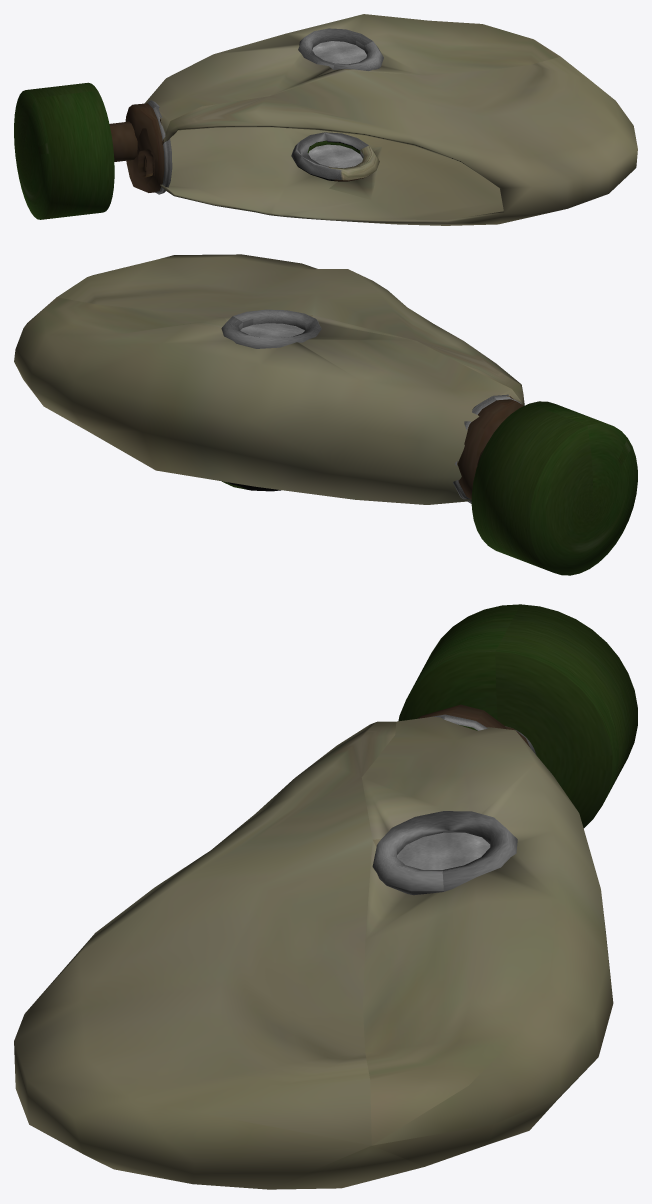
File: scp1499.fbx
3 renders of one model, top to bottom at view 1: azimuth 30°, elevation 25°; view 2: azimuth 150°, elevation 25°; view 3: azimuth 270°, elevation 25°, orthographic. The views are drawn at different scales.
Parts seen in each view (by area): view 1: Scene_Root; view 2: Scene_Root; view 3: Scene_Root.
Part boxes in pixels (left/top/right/bottom): Scene_Root: left=14, top=14, right=637, bottom=225; Scene_Root: left=14, top=254, right=637, bottom=575; Scene_Root: left=14, top=604, right=637, bottom=1189.
Bounding box in the file's own units: 10.83 × 2.63 × 6.62.
